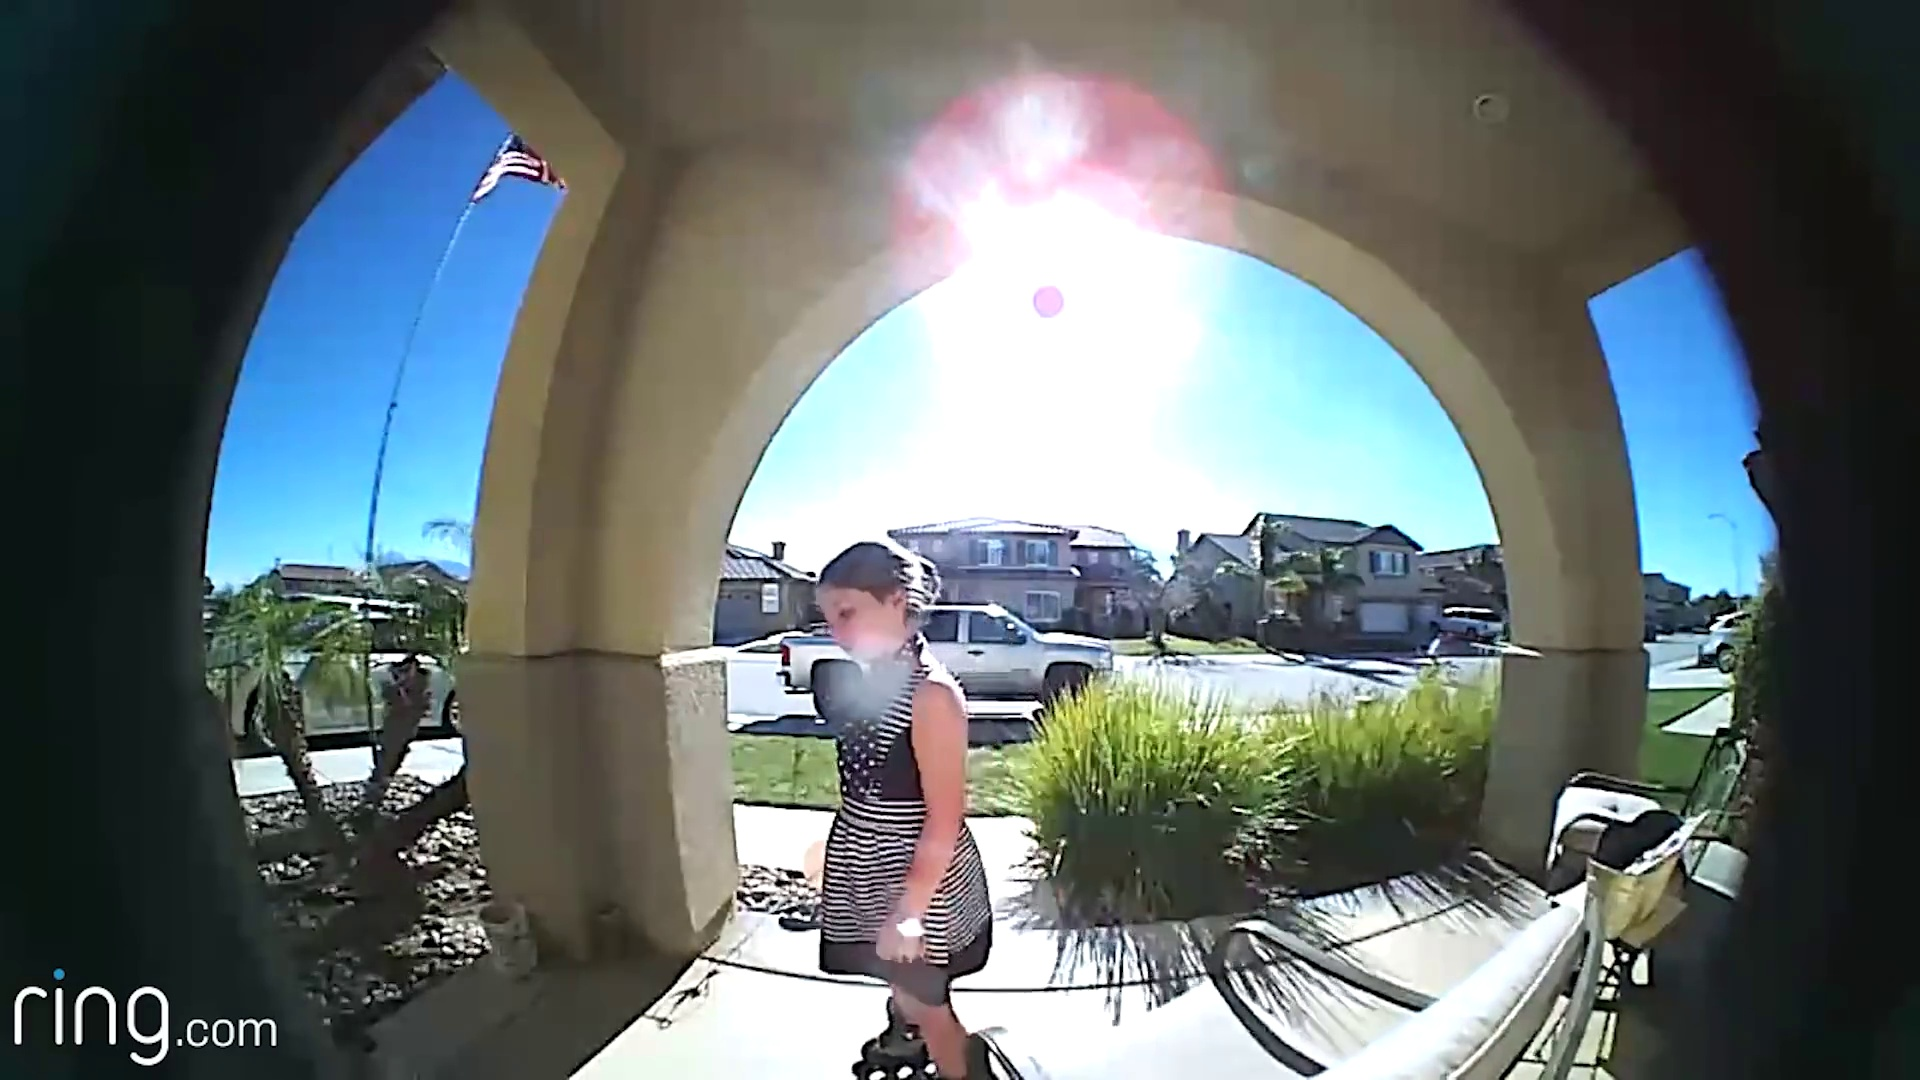face: (820, 568, 889, 659)
